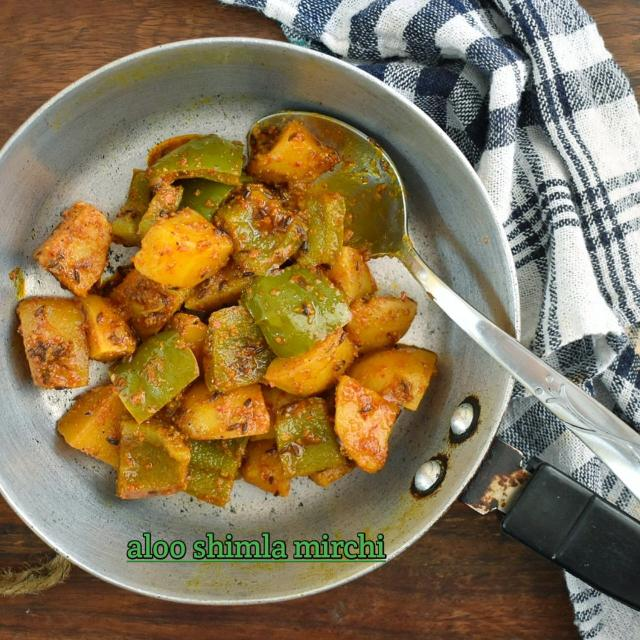aloo_gobi: (15, 115, 461, 500)
